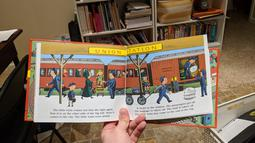text block: (46, 102, 116, 120), (131, 100, 200, 118)
